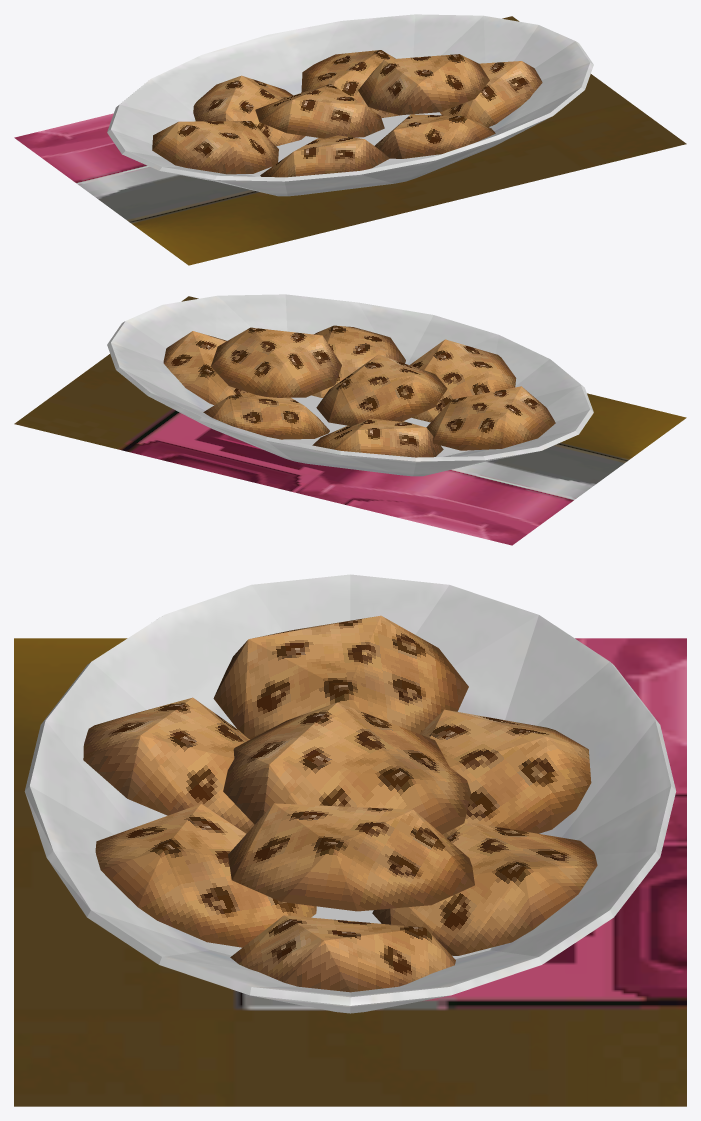
File: galletas.obj
3 views of the same model, one above another, from view 1: azimuth 30°, elevation 25°; view 2: azimuth 150°, elevation 25°; view 3: azimuth 270°, elevation 25° (orthographic). The views are drawn at different scales.
Parts seen in each view (by area): view 1: s4studio_mesh_0, s4studio_mesh_1, s4studio_mesh_2; view 2: s4studio_mesh_1, s4studio_mesh_0, s4studio_mesh_2; view 3: s4studio_mesh_1, s4studio_mesh_0, s4studio_mesh_2.
Boxes of the visible parts, x1,y1,x2,y2 form: s4studio_mesh_0: [14, 16, 686, 265]; s4studio_mesh_1: [152, 50, 542, 177]; s4studio_mesh_2: [107, 14, 593, 196]; s4studio_mesh_1: [163, 325, 555, 457]; s4studio_mesh_0: [14, 296, 686, 545]; s4studio_mesh_2: [107, 294, 593, 476]; s4studio_mesh_1: [83, 615, 597, 992]; s4studio_mesh_0: [14, 638, 686, 1106]; s4studio_mesh_2: [24, 574, 676, 1013].
Bounding box in the file's own units: 0.4188 × 0.0577 × 0.2544.
